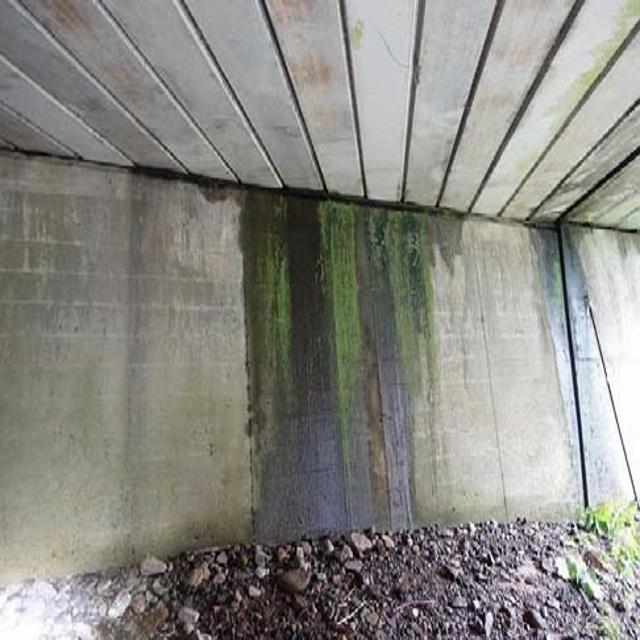leakage: (229, 151, 444, 556), (527, 222, 607, 522)
